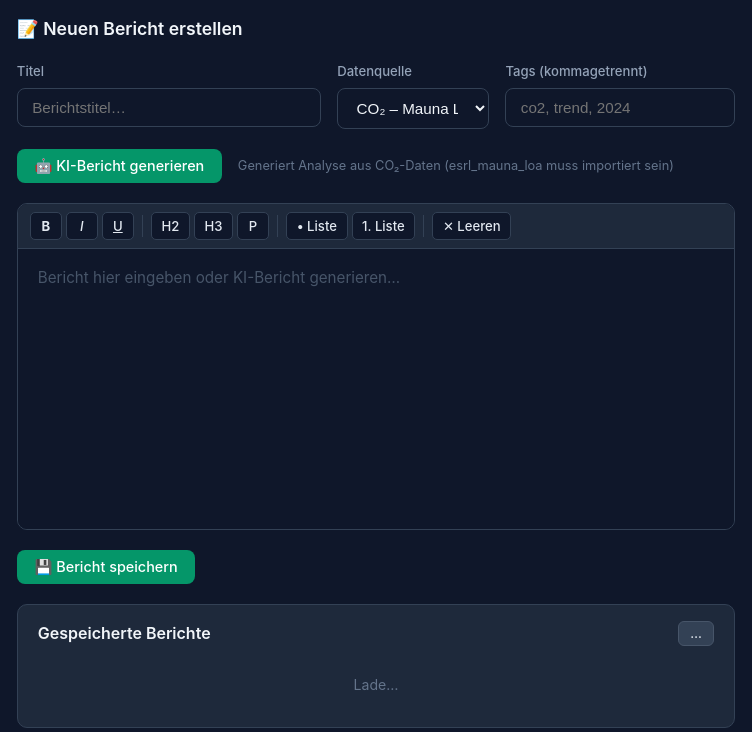
ReportEditor › Speichern-Button ohne Inhalt zeigt Fehlermeldung
What coordinates should you click on to do the following:
click the button "💾 Bericht speichern"
I would click on:
 (106, 567)
Its box is [17,550,195,584].
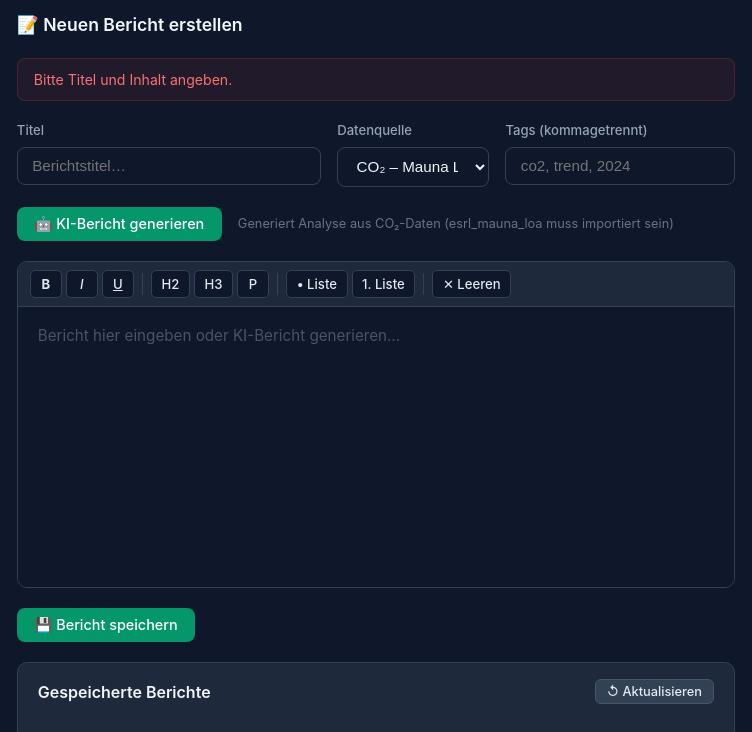
Now the text "Bitte Titel und Inhalt angeben." is shown, box [17,58,735,101]
